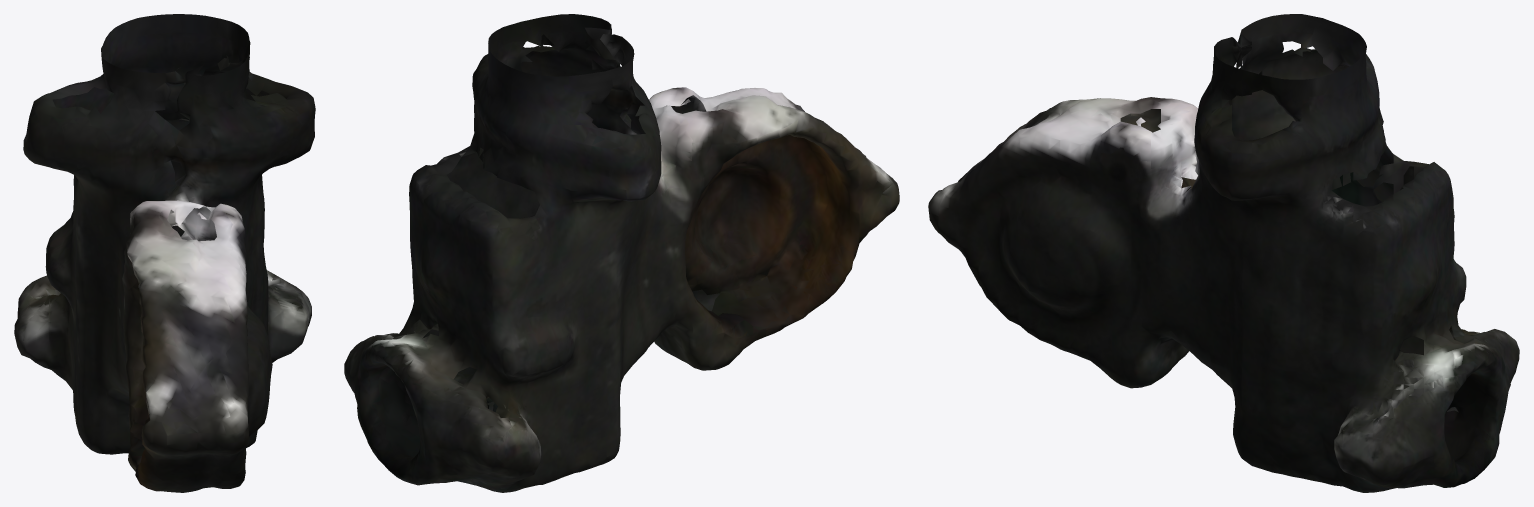
The model's file is iron.obj.
The picture shows the model from 3 angles, left to right: view 1: azimuth 30°, elevation 25°; view 2: azimuth 150°, elevation 25°; view 3: azimuth 270°, elevation 25°; orthographic projection. The views are drawn at different scales.
Bounding box in the file's own units: 0.1248 × 0.1333 × 0.1755.
